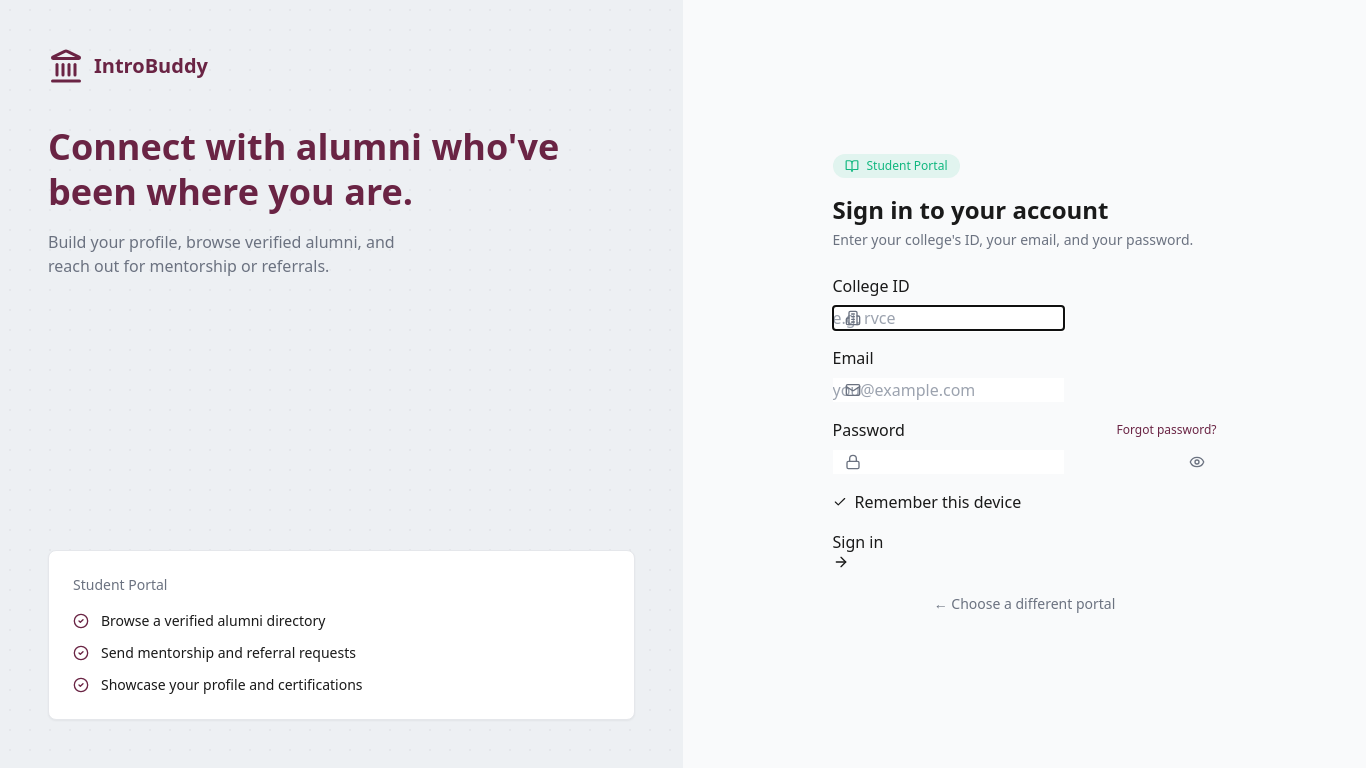
Test: RoleLoginPage › signs out and shows a friendly error when the resolved role doesn't match this portal
In the field labelled "College ID": point(948, 318) [832, 306, 1064, 330], type "rvce"
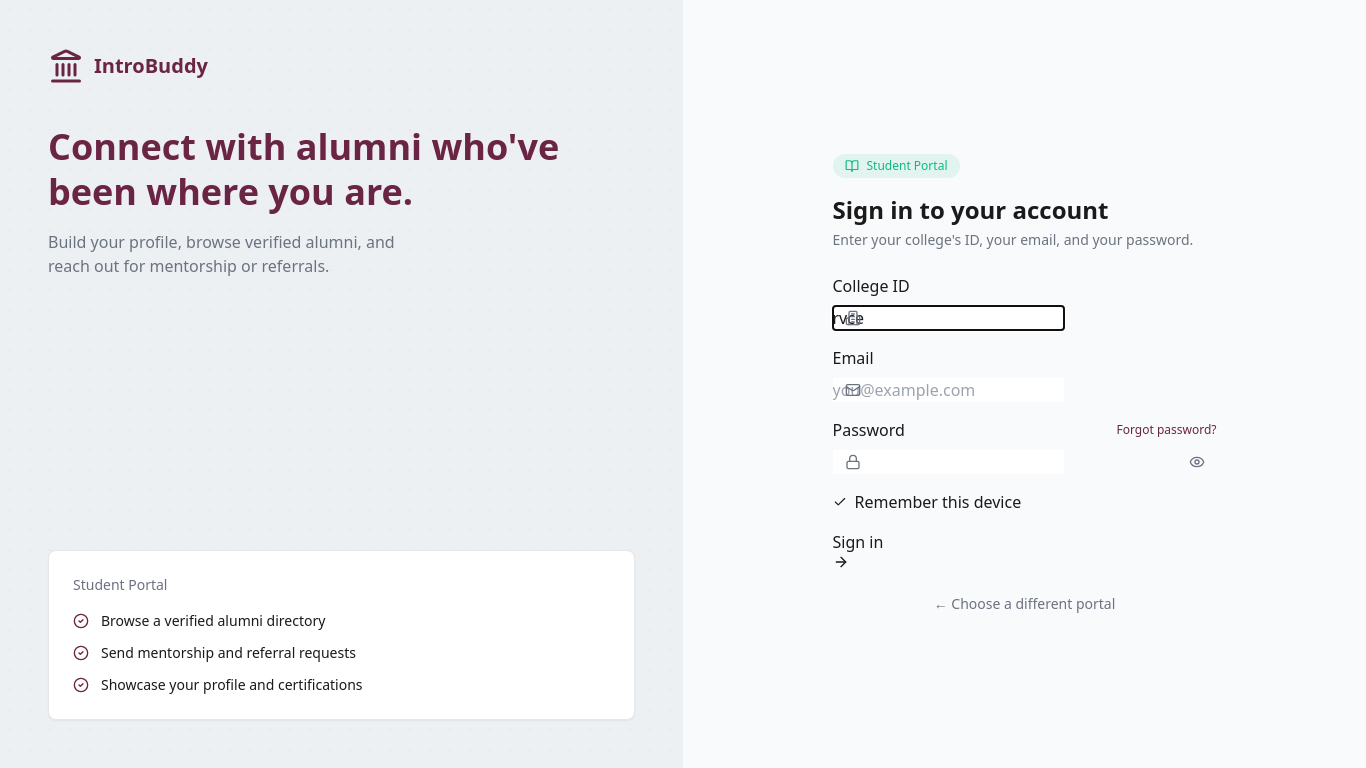
In the field labelled "Email": point(948, 390) [832, 378, 1064, 402], type "admin@example.com"
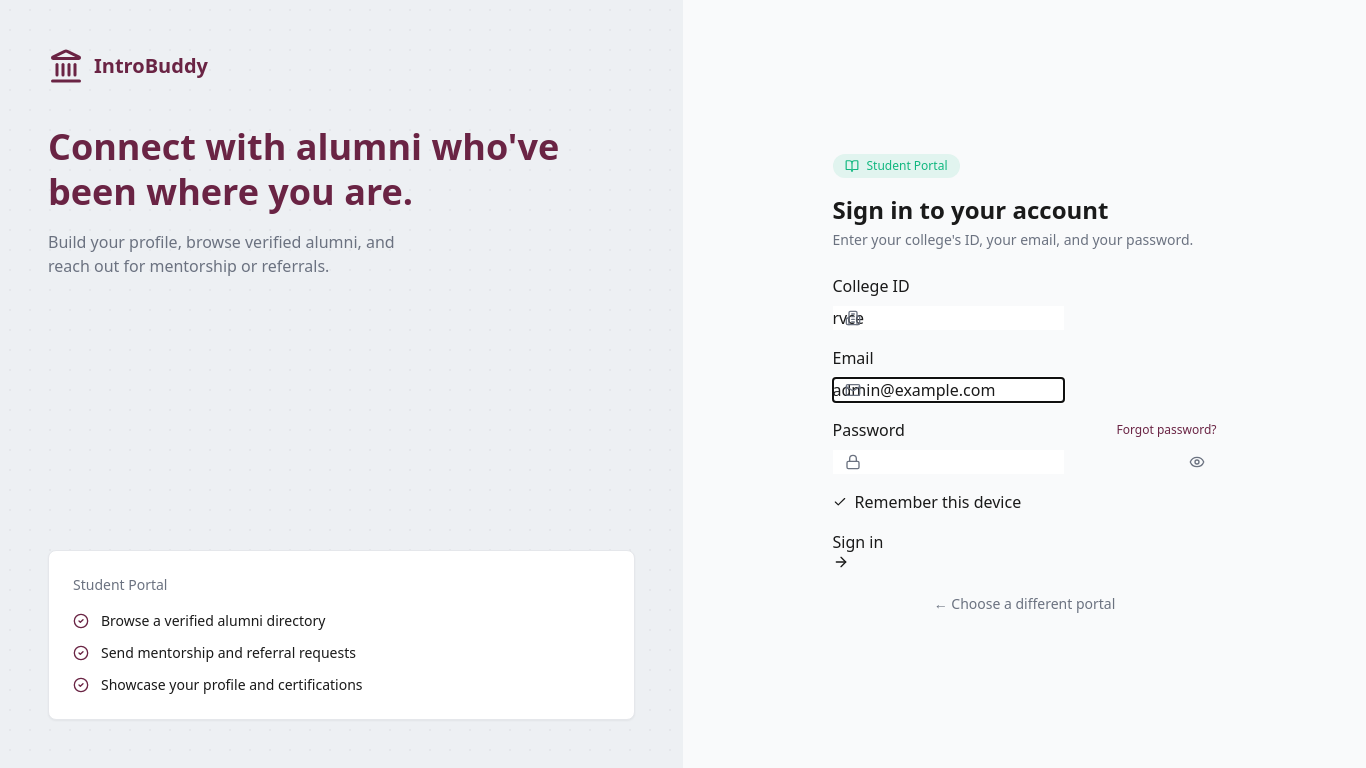
In the password field labelled "Password": point(948, 462) [832, 450, 1064, 474], type "Correct-Horse-9"
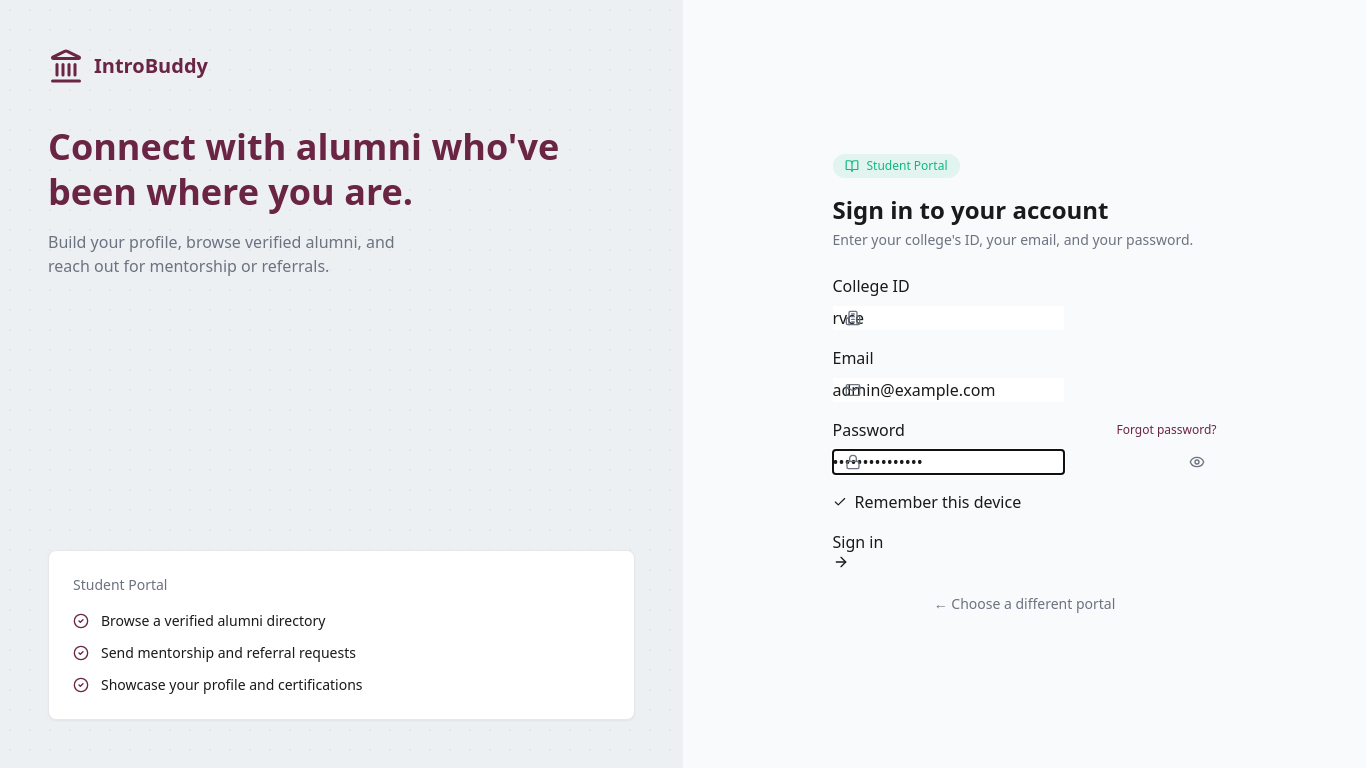
Click the button "Sign in": point(858, 550) [832, 530, 883, 570]
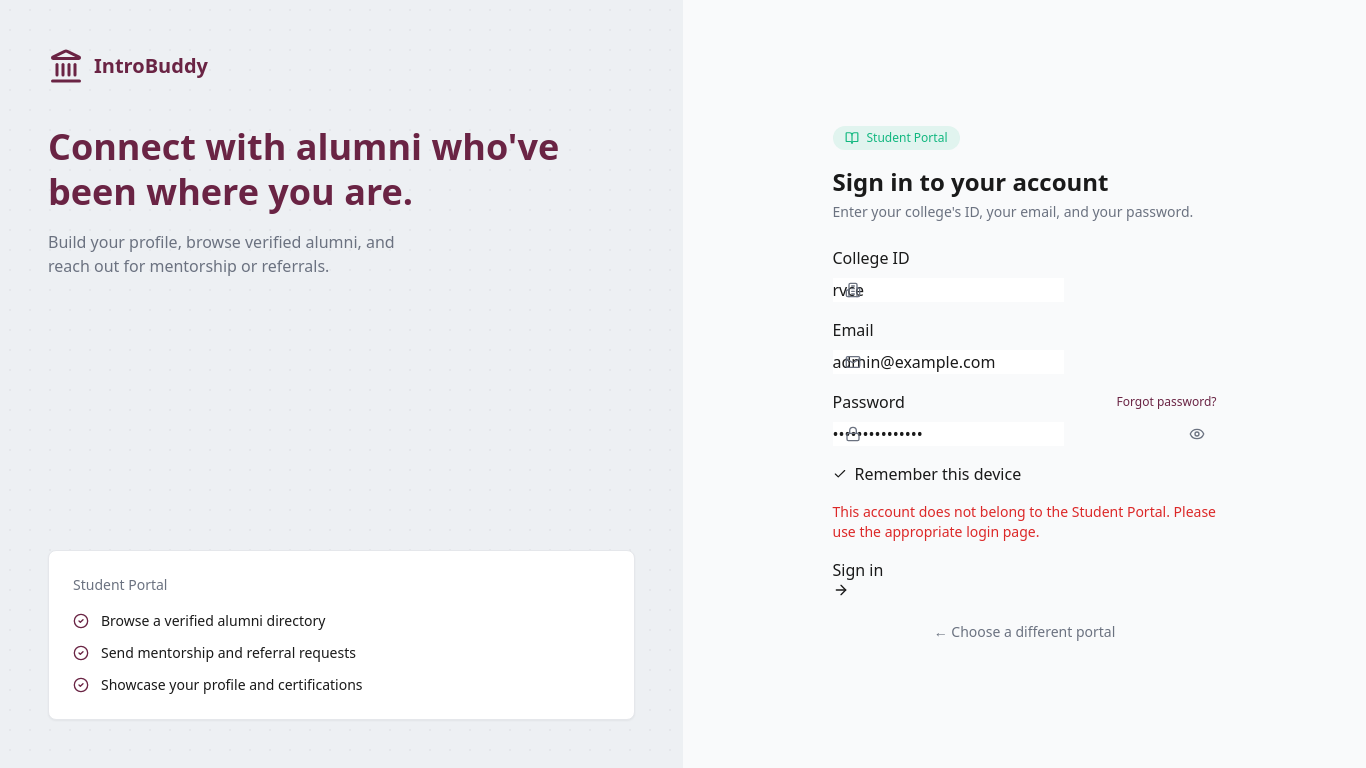
expect the text "does not belong to the Student Portal" is shown: met, box [832, 502, 1216, 541]
